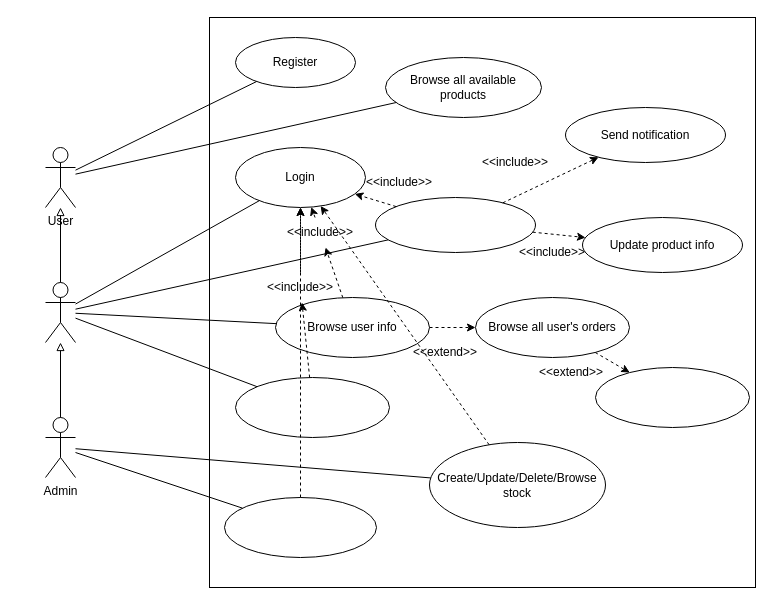
Image size: 773x605. Some labels were removed from this diagram. Here are the shapes that lost their labels. From the top down, the centre of each, then its label:
At (455,224): "Place an order".
At (60,312): "Registered User".
At (312,407): "Update/Delete info/user".
At (672,397): "Browse all user's ordered products".
At (300,527): "Create/Update/Delete product".
